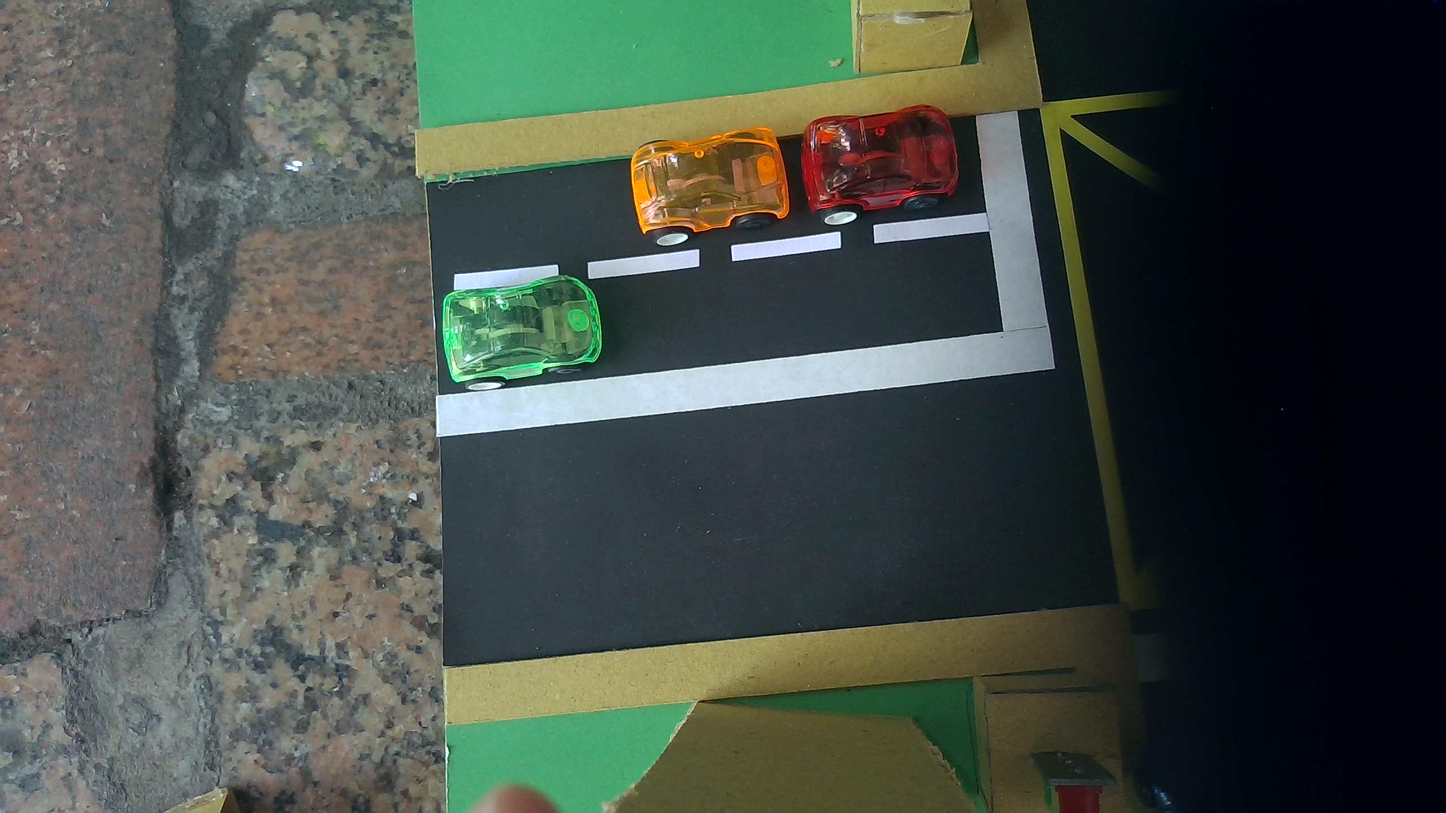Mobil hijau: (442, 276, 602, 389)
Mobil merah: (801, 104, 958, 225)
Mobil orange: (630, 128, 790, 246)
